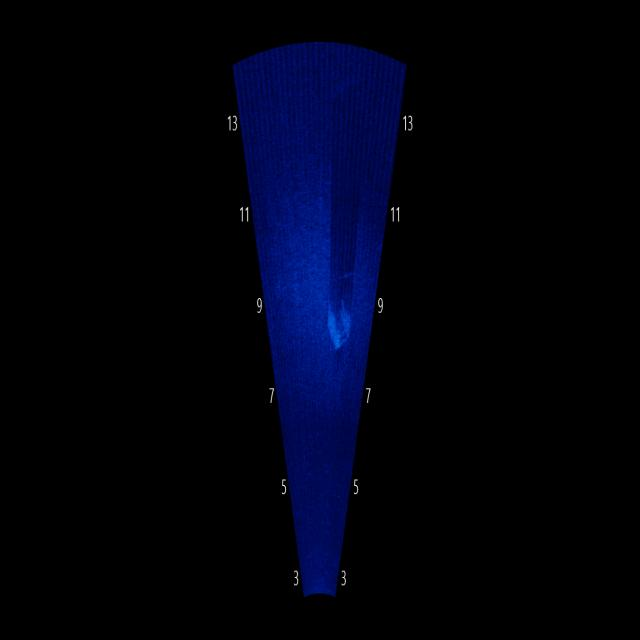square: (321, 285, 354, 363)
